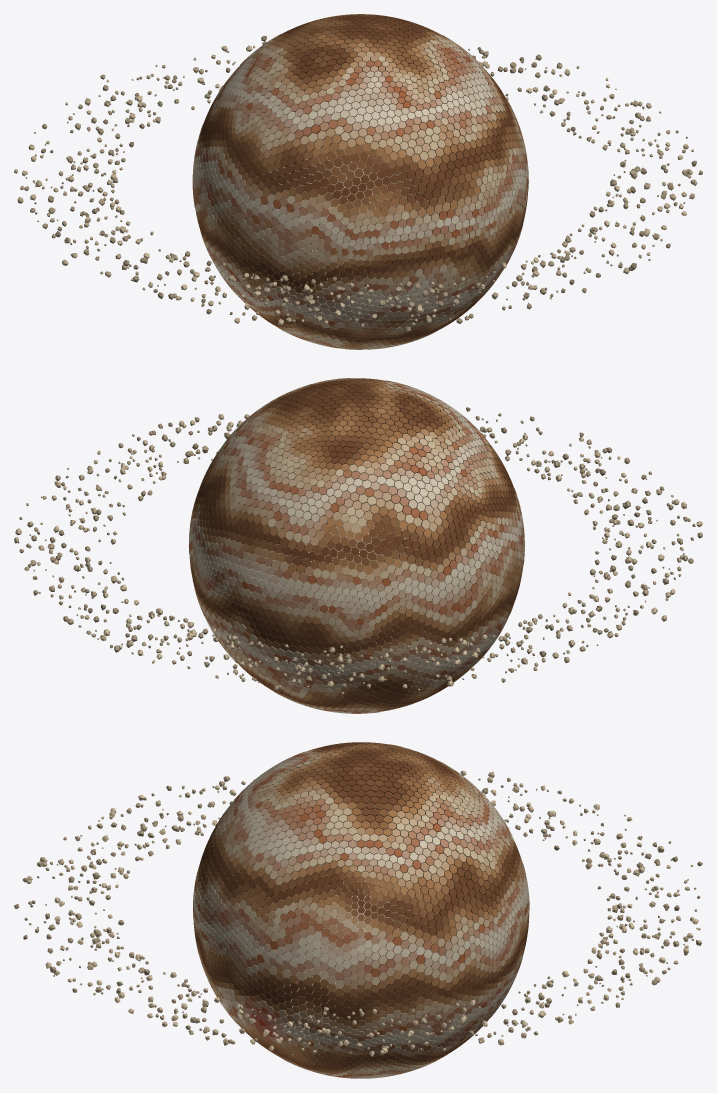
File: gas_0.glb
3 renders of one model, top to bottom at view 1: azimuth 30°, elevation 25°; view 2: azimuth 150°, elevation 25°; view 3: azimuth 270°, elevation 25°, orthographic.
Parts seen in each view (by area): view 1: gas_0, gas_0_rings; view 2: gas_0, gas_0_rings; view 3: gas_0, gas_0_rings.
Part boxes in pixels (bbox=[...]): gas_0: bbox=[192, 14, 528, 349]; gas_0_rings: bbox=[14, 35, 702, 332]; gas_0: bbox=[188, 378, 524, 713]; gas_0_rings: bbox=[14, 407, 702, 694]; gas_0: bbox=[193, 742, 529, 1078]; gas_0_rings: bbox=[14, 770, 702, 1056].
Size of the model in its own units: 4.13 by 2 by 4.1.
